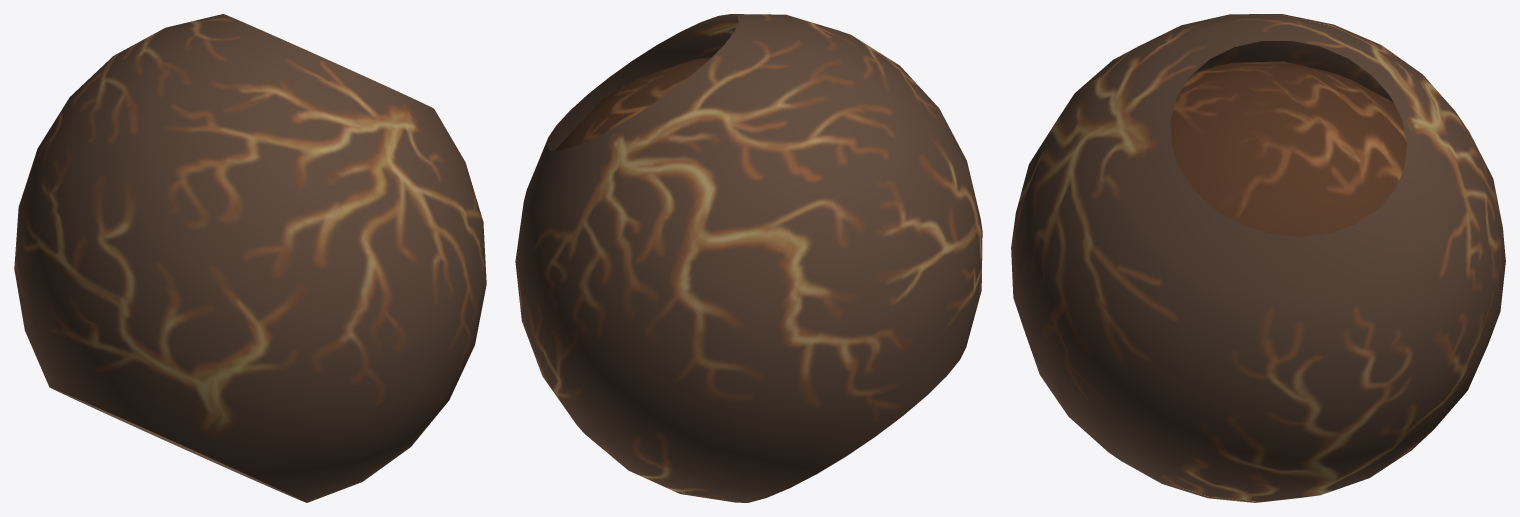
The model's file is Tumbleweed.FBX.
3 views of the same model, side by side, from view 1: azimuth 30°, elevation 25°; view 2: azimuth 150°, elevation 25°; view 3: azimuth 270°, elevation 25° (orthographic).
Visible parts, largest first — view 1: Tumbleweed; view 2: Tumbleweed; view 3: Tumbleweed.
Boxes of the visible parts, left/top/right/bottom form: Tumbleweed: left=14, top=14, right=486, bottom=502; Tumbleweed: left=515, top=14, right=982, bottom=502; Tumbleweed: left=1011, top=14, right=1505, bottom=502.
Bounding box in the file's own units: 0.673 × 0.7195 × 0.7186.
